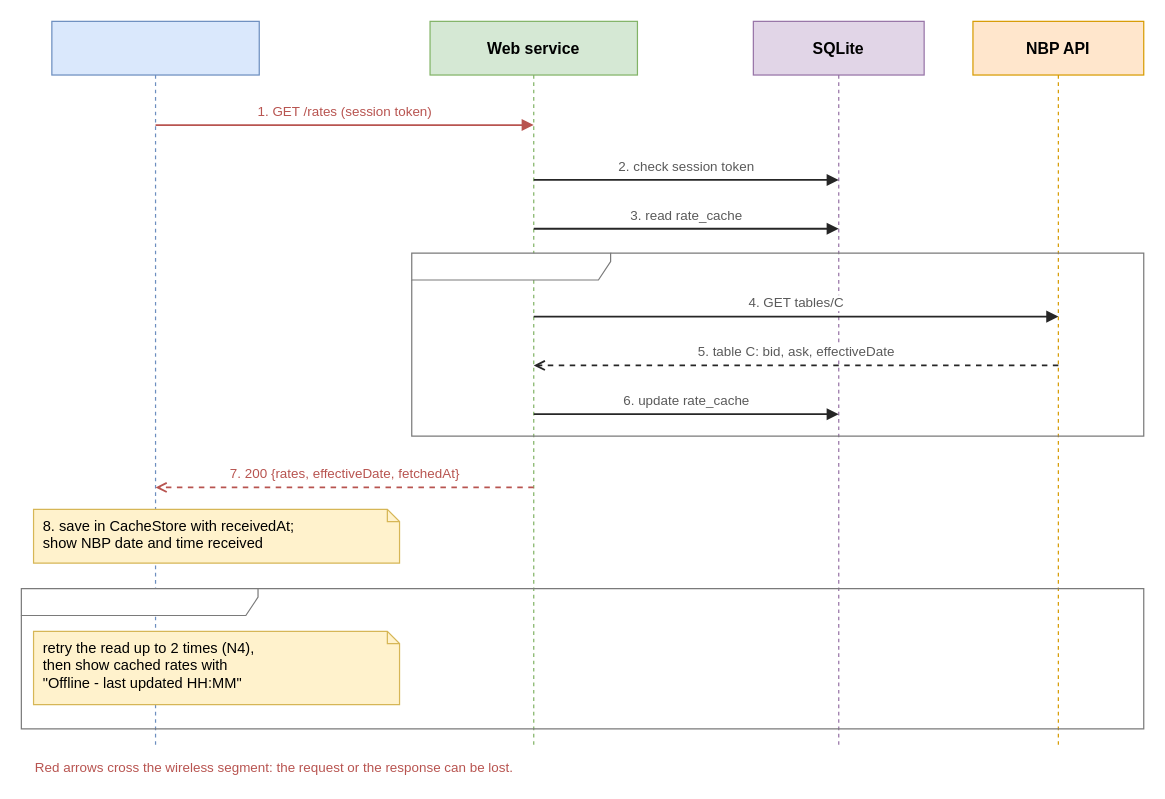
This 1165x799 diagram has some shape labels left out. The shapes that lost their labels are listed below. From the top down, each one's box as (x1, y1, x2, y2) in pixels, then its label:
(411, 252, 1144, 436): alt [cache older than 30 min]
(51, 20, 259, 747): Mobile app
(20, 587, 1144, 729): alt [request fails or no connection]
